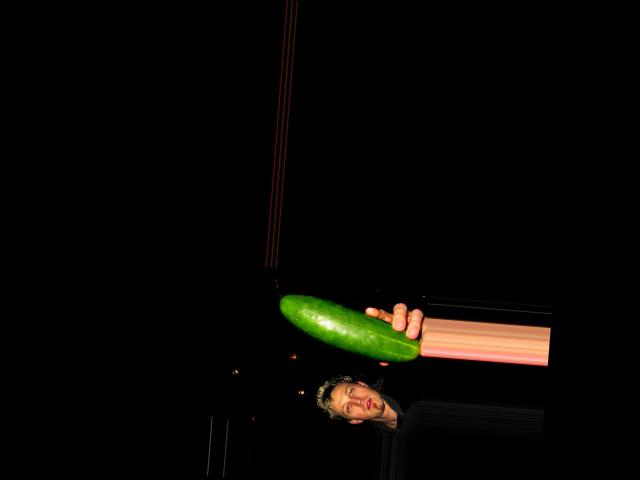cucumber: (276, 292, 422, 362)
